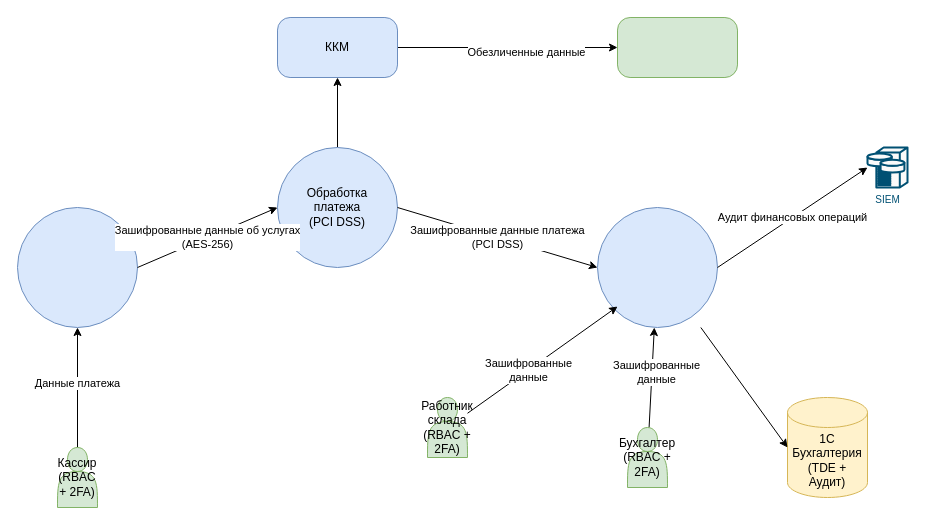
Some shapes in this 926 by 525 pixel diagram are drawn without their labels. Each missing label, with the centre of its shape:
"ОФД" belongs at point (677, 47).
"Учёт в 1С (Шифрование + Аудит)" belongs at point (657, 267).
"Формирование счета (Шифрование)" belongs at point (77, 267).
